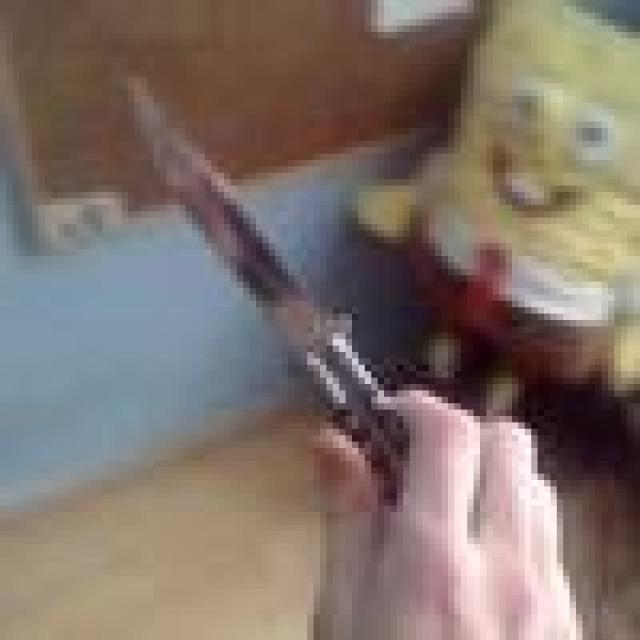senjata_tajam: (121, 69, 405, 501)
